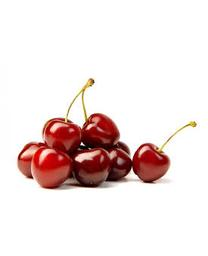cherry: (31, 147, 71, 188), (42, 117, 82, 156), (132, 142, 170, 183), (73, 147, 111, 187), (81, 113, 121, 148), (17, 141, 48, 178), (103, 144, 131, 179)
